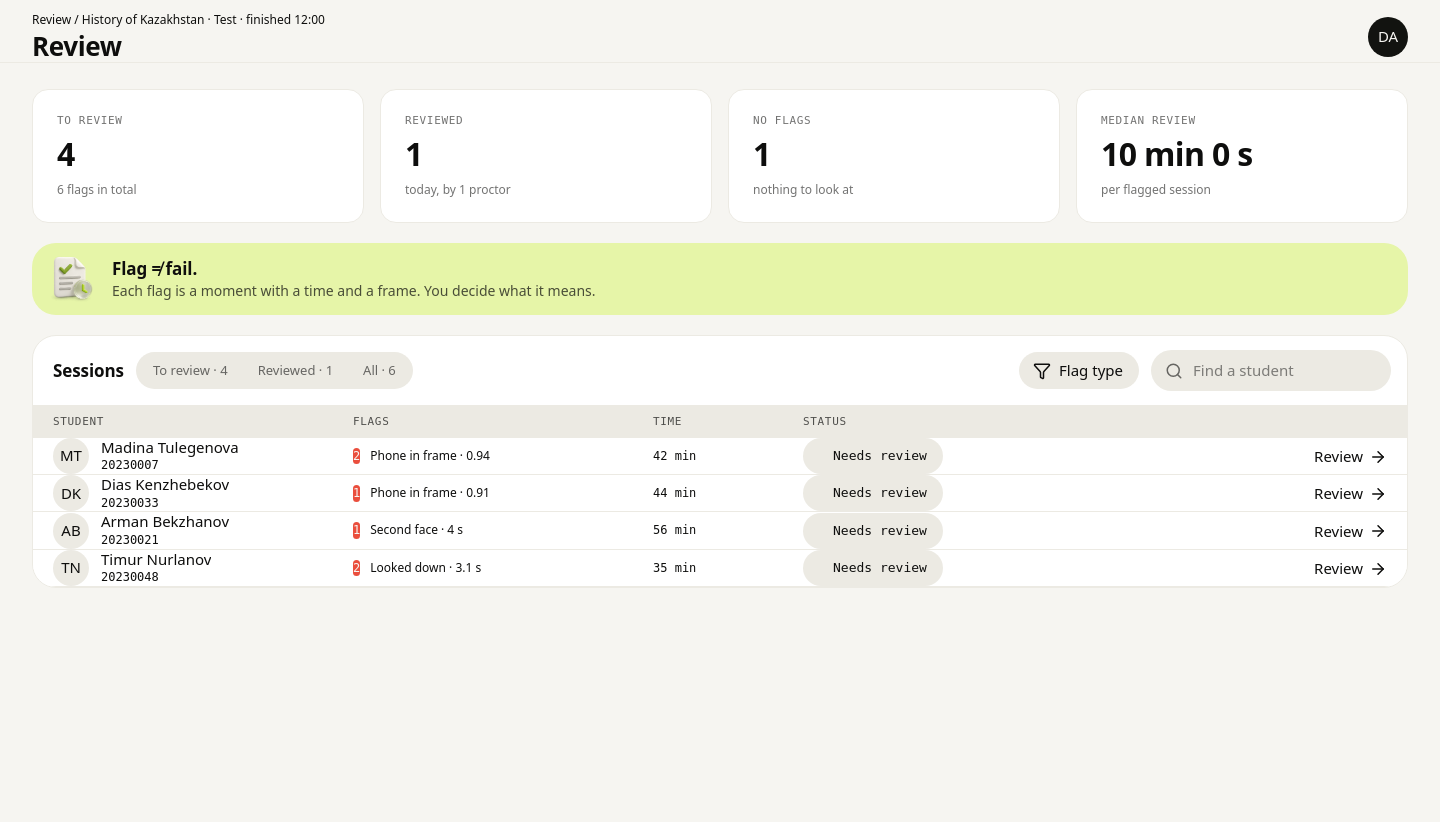
3.2 Review queue › switches tabs and finds a student on the client
This screenshot has width=1440, height=822.
Click the radio button labelled "Reviewed · 1".
click(295, 371)  # box [244,355,347,386]
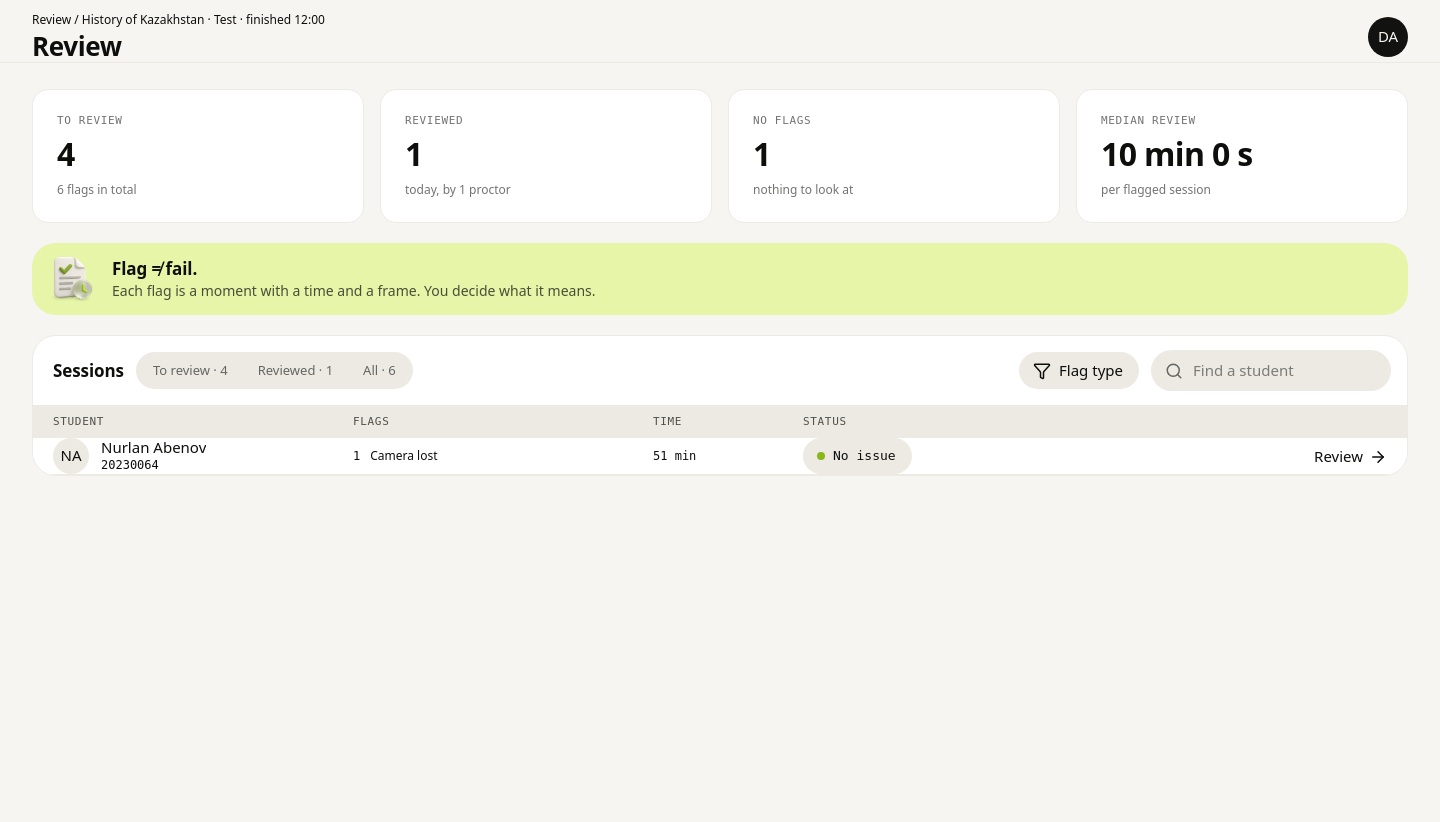
Now the row that starts with "Nurlan Abenov" shows "No issue", box [833,448,896,463]
Click the radio button labelled "All · 6".
click(379, 371)  # box [349,355,410,386]
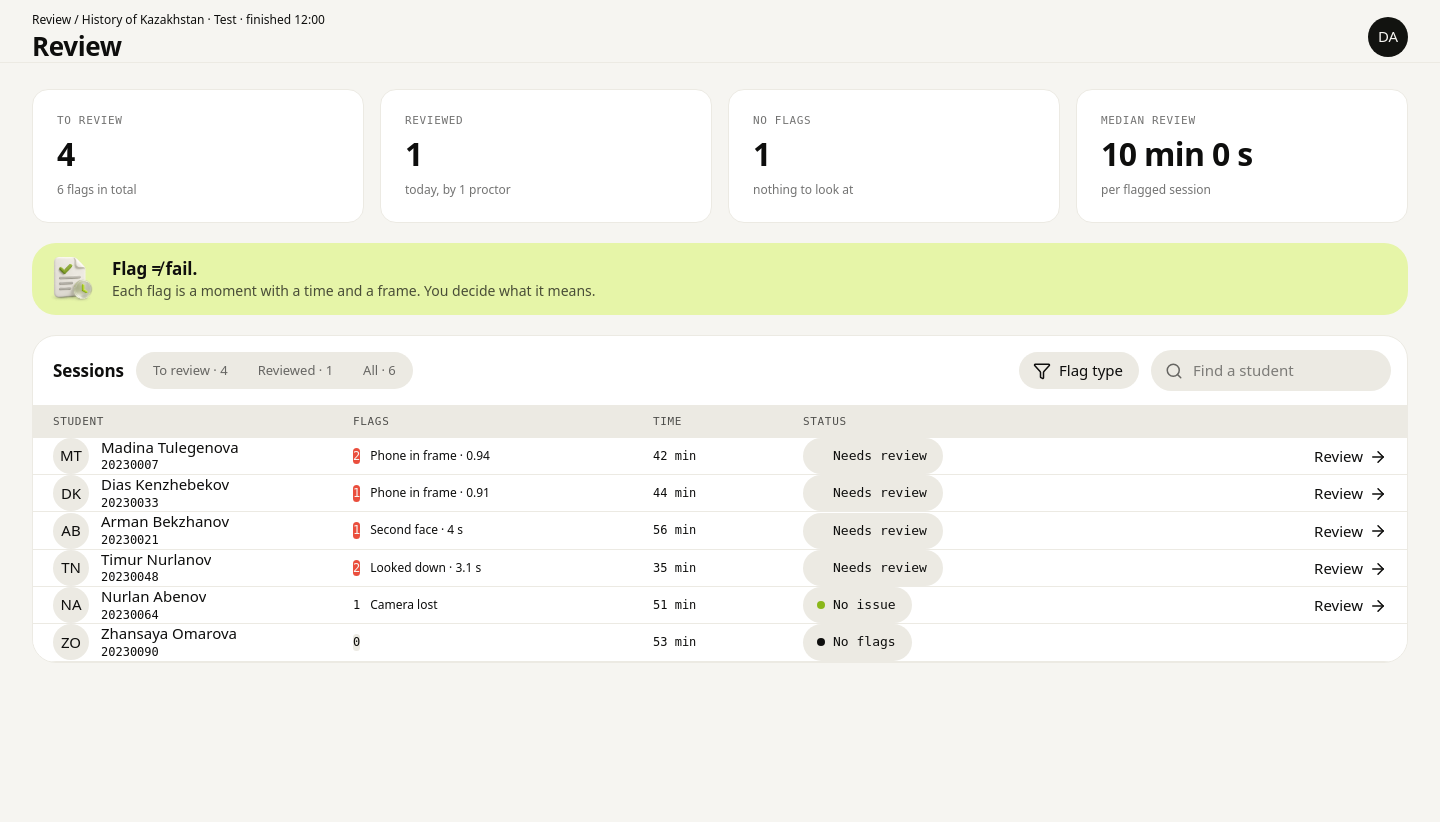
Type "arman" into the search field labelled "Find a student".
click(1284, 371); type("arman")  # box [1193,359,1375,382]
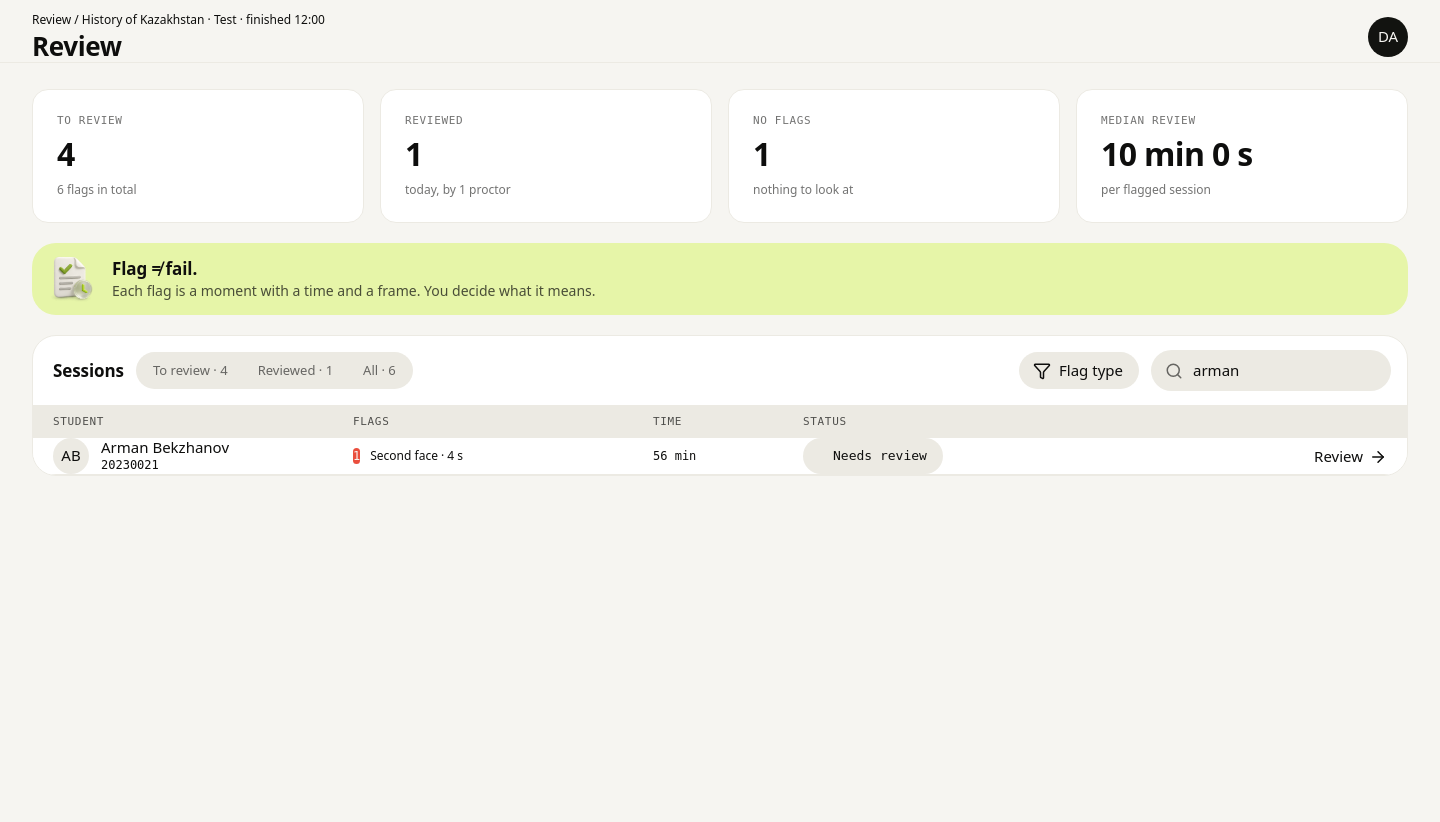
Replace the text in the search field named "Find a student" with "zzz" at (1284, 371), box [1193,359,1375,382]
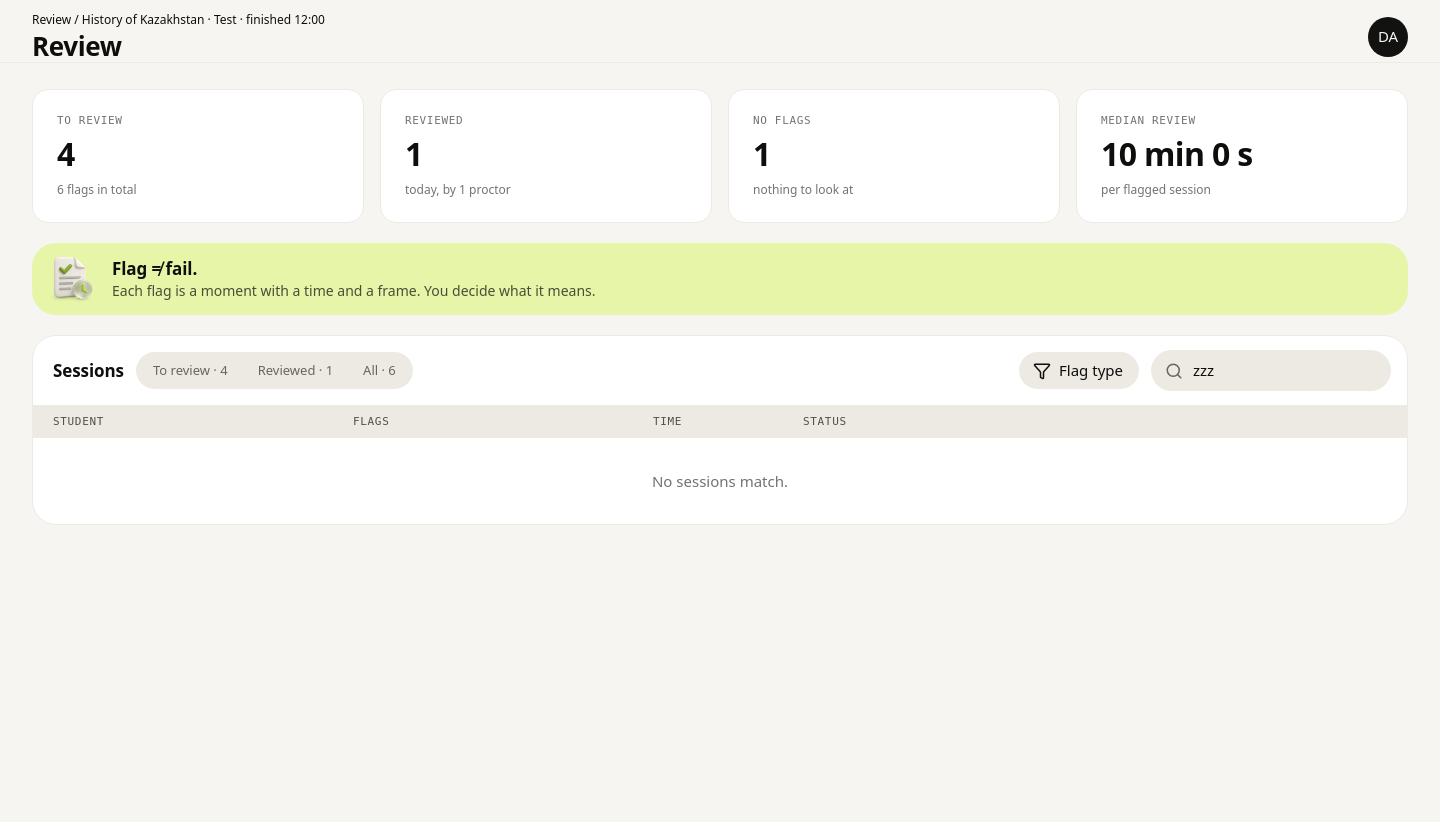
Now the text "No sessions match." is shown, box [33,438,1407,524]
